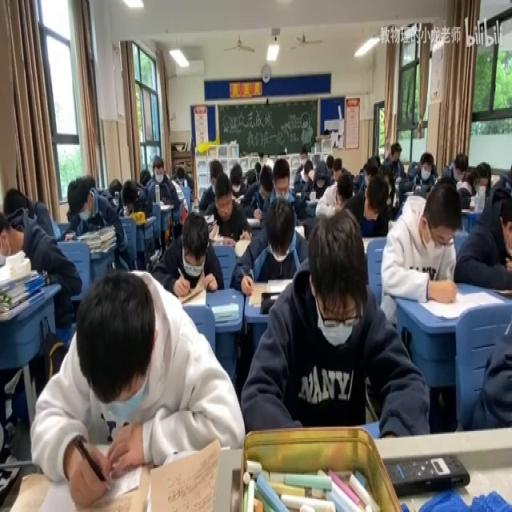calculator: (414, 286, 502, 320), (246, 278, 292, 308), (0, 249, 31, 280), (210, 301, 238, 323), (4, 365, 22, 394), (181, 286, 206, 306), (234, 234, 250, 258), (213, 233, 235, 246), (361, 236, 374, 253), (304, 198, 317, 214), (208, 222, 219, 240), (245, 215, 261, 226), (149, 246, 159, 263), (311, 151, 321, 168), (294, 225, 305, 240), (203, 213, 214, 225), (158, 202, 174, 210), (144, 216, 156, 225), (232, 194, 242, 204), (461, 205, 474, 212), (192, 200, 198, 212), (404, 189, 414, 196), (294, 191, 302, 199)
paper: (32, 266, 243, 506), (240, 206, 423, 438), (402, 174, 462, 432), (1, 194, 81, 336), (454, 176, 512, 292), (64, 173, 128, 276), (151, 208, 222, 296), (206, 170, 252, 244), (355, 169, 392, 238), (314, 165, 359, 220), (256, 158, 294, 219), (146, 155, 180, 223), (120, 178, 150, 222), (451, 155, 476, 205), (408, 151, 438, 192), (0, 215, 25, 256), (2, 186, 30, 222), (382, 140, 404, 180), (293, 156, 313, 194), (473, 161, 491, 196), (492, 166, 512, 196), (107, 178, 123, 206), (208, 158, 222, 183), (366, 154, 380, 176), (259, 179, 272, 198), (331, 158, 342, 180), (174, 165, 186, 185), (184, 170, 194, 194), (138, 168, 150, 185), (244, 171, 256, 186), (261, 155, 271, 171), (442, 164, 452, 179), (253, 159, 260, 178), (361, 171, 368, 186), (301, 145, 307, 157)
person: (384, 454, 470, 496), (0, 462, 21, 505), (492, 286, 512, 297)
